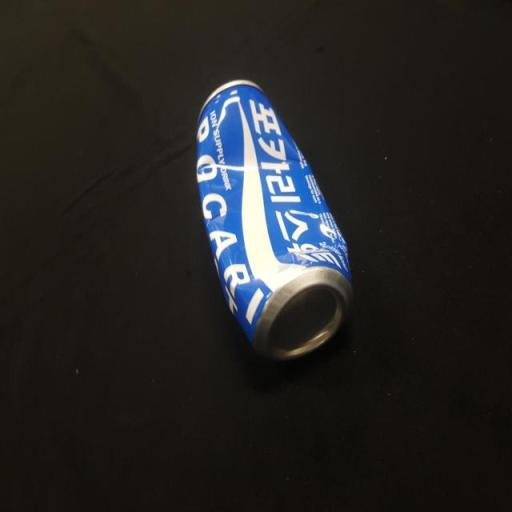metal: (188, 46, 364, 396)
